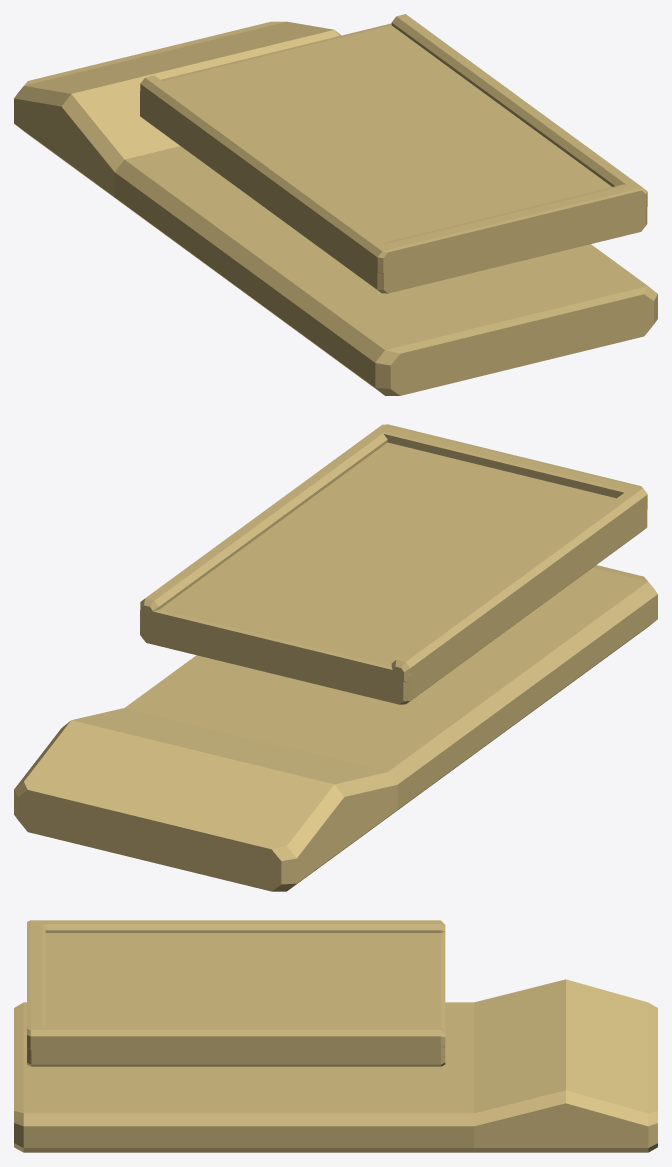
The model's file is tallow_transport_a.glb.
3 views of the same model, one above another, from view 1: azimuth 30°, elevation 25°; view 2: azimuth 150°, elevation 25°; view 3: azimuth 270°, elevation 25° (orthographic). The views are drawn at different scales.
Visible parts, largest first — view 1: tallow_transport_a; view 2: tallow_transport_a; view 3: tallow_transport_a.
Boxes of the visible parts, bbox=[...] form: tallow_transport_a: bbox=[14, 14, 657, 395]; tallow_transport_a: bbox=[14, 424, 657, 891]; tallow_transport_a: bbox=[14, 920, 657, 1152].
Size of the model in its own units: 3.9 by 1.86 by 8.9.
